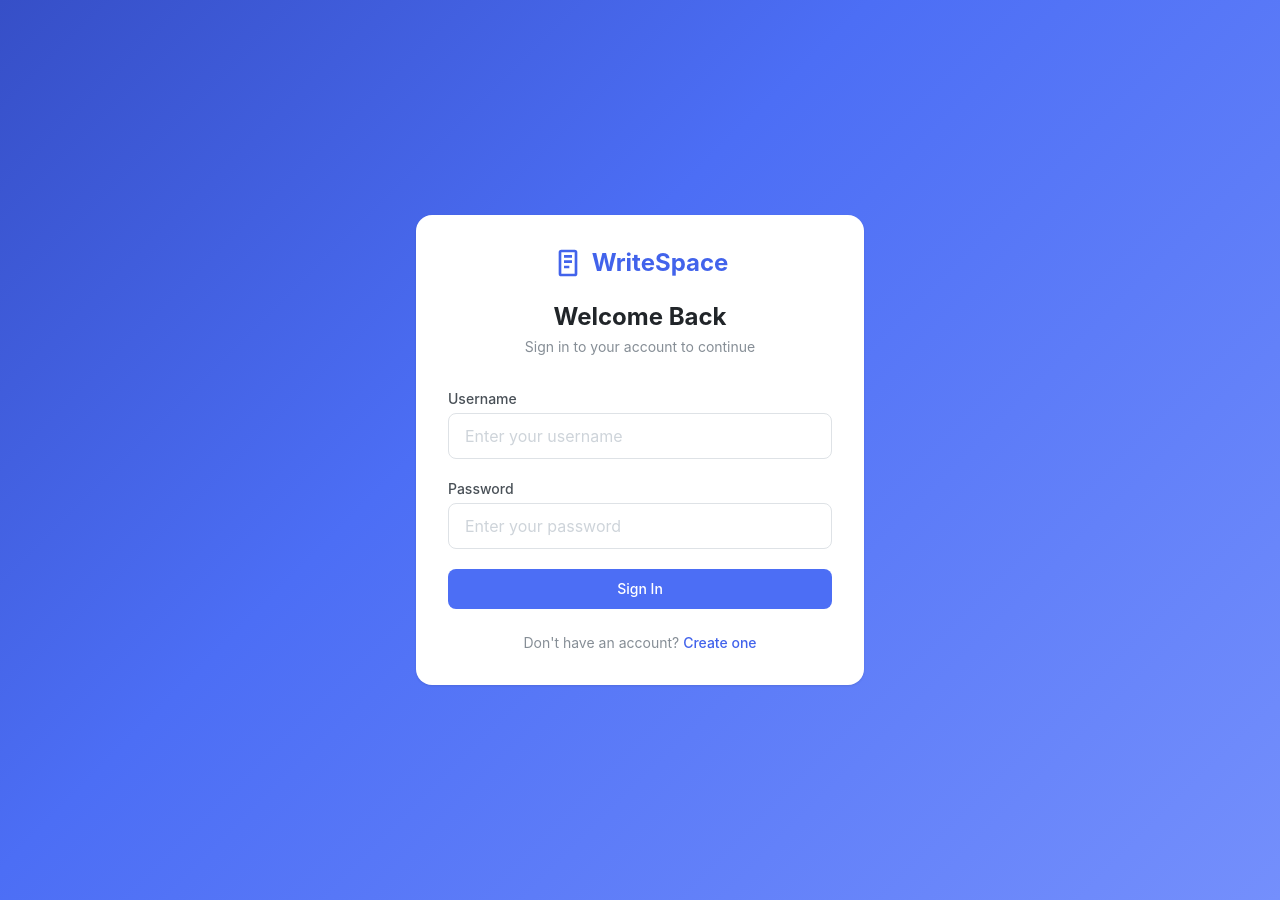
Test case: LoginPage › failed login › displays an error message when login throws an unexpected error
This screenshot has width=1280, height=900.
Type "test" into the field labelled "Username". click: (640, 436)
box: [448,413,832,459]
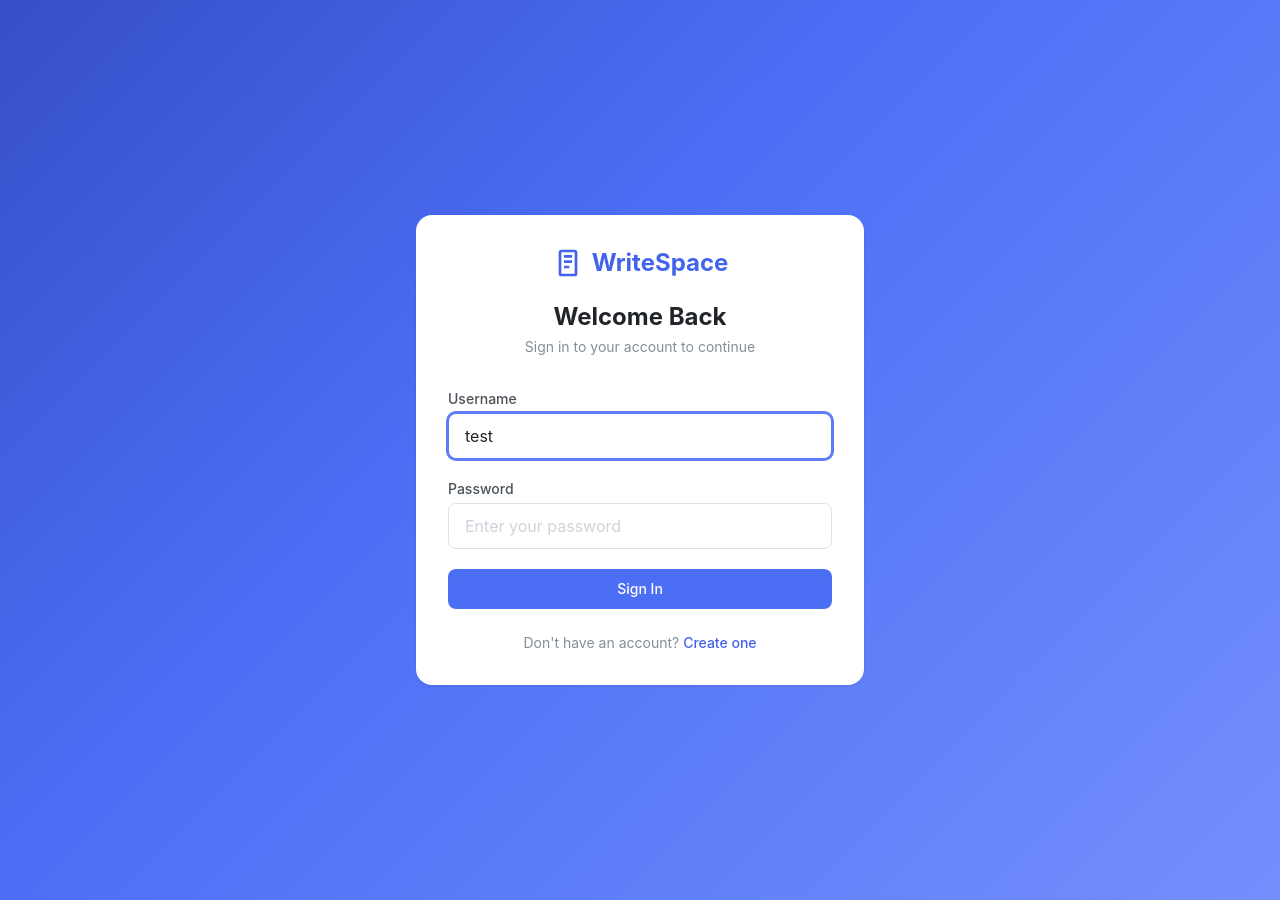
Type "test" into the password field labelled "Password". click: (640, 526)
box: [448,503,832,549]
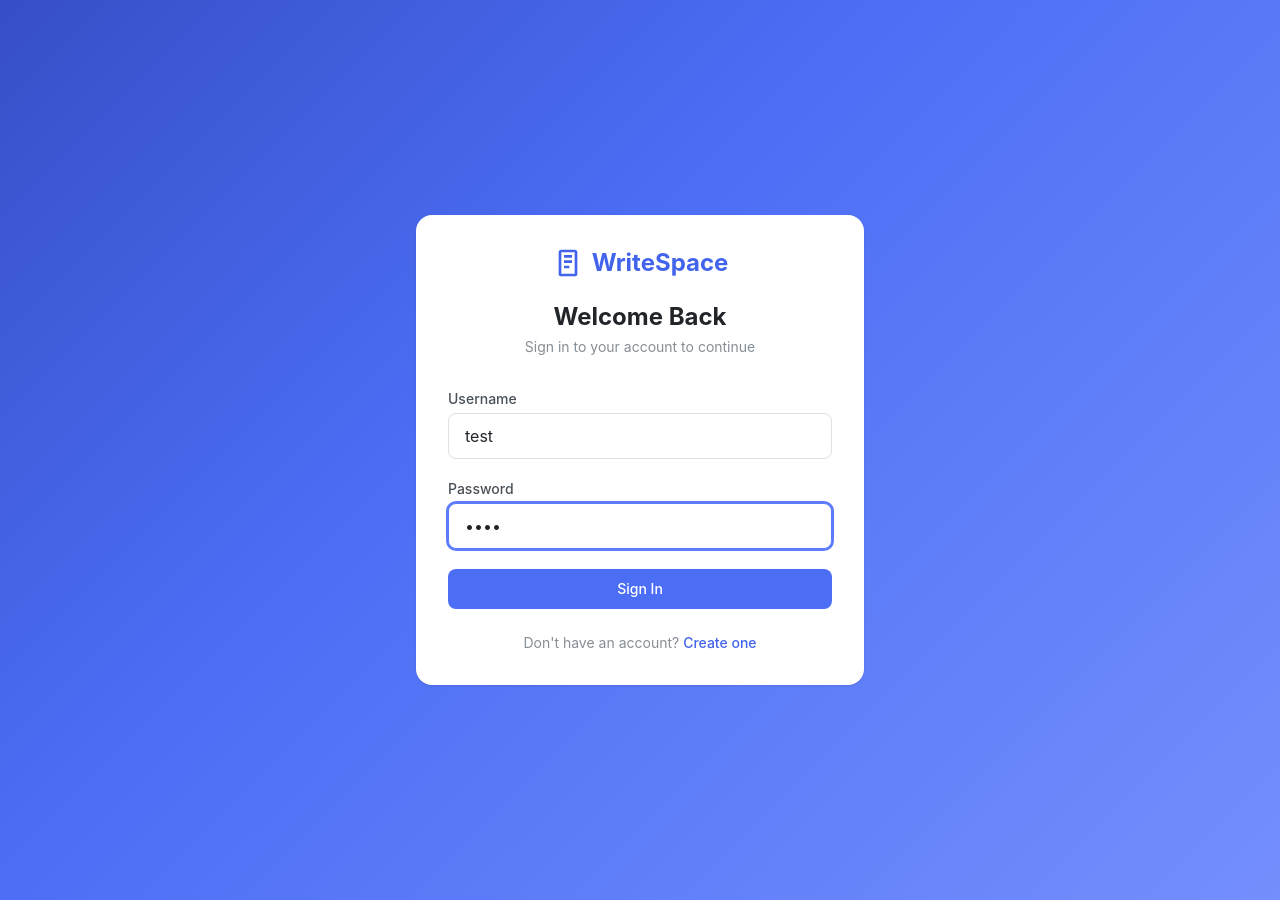
Click the button "Sign In". click: click(640, 589)
box: [448,569,832,609]
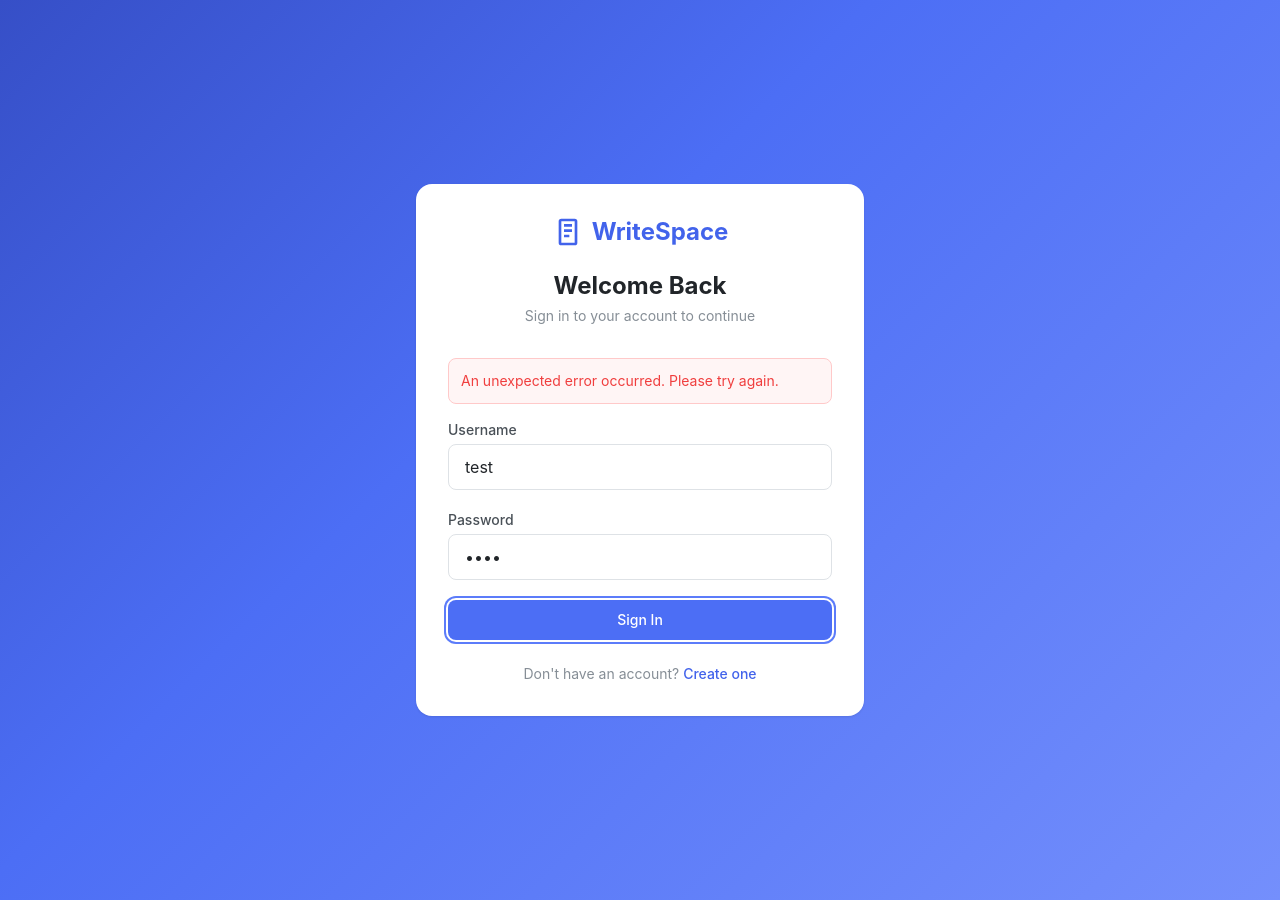
Check: the message reads "An unexpected error occurred. Please try again.", box [461,372,779,389]
